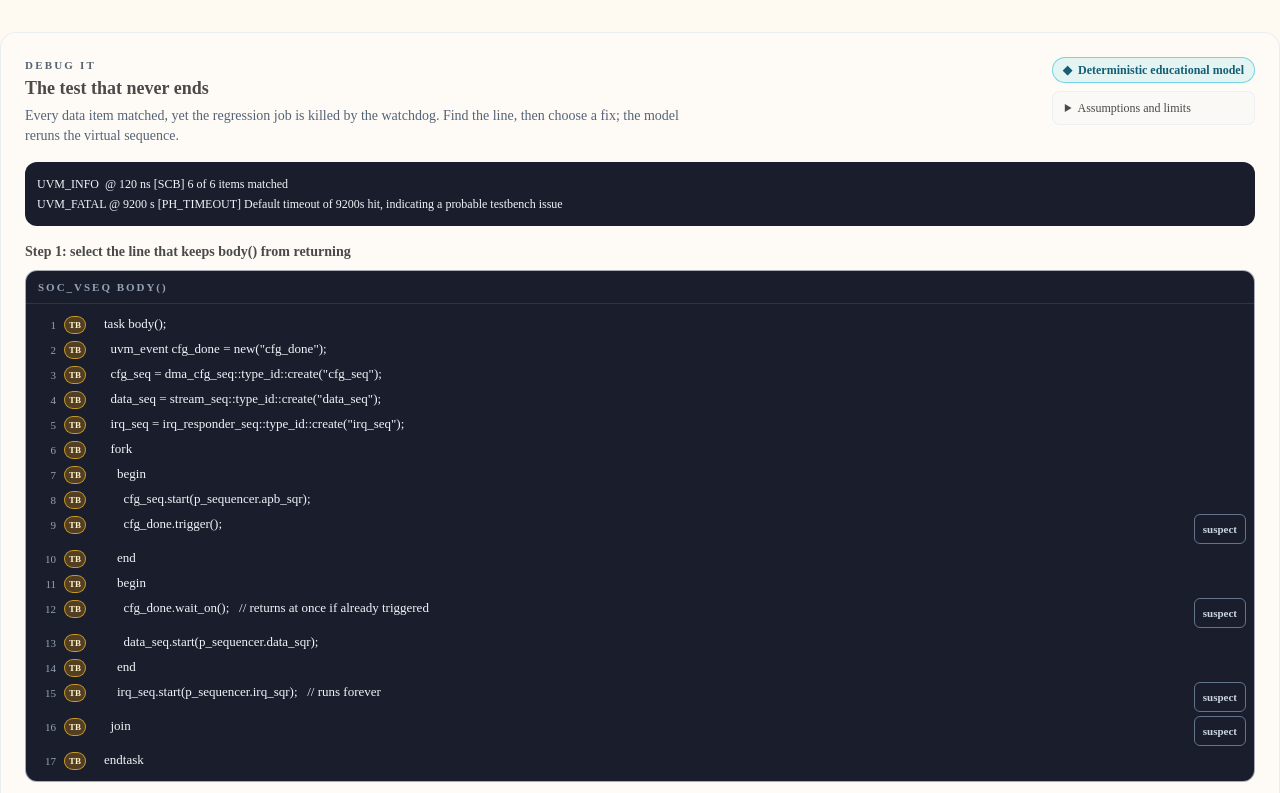
Test: MultiAgentCoordinationVisualizer › debug mode: the join is the culprit; join_any is rejected and the isolated background fork is accepted
Expected: the text named "Failing log" shows "PH_TIMEOUT", [37,176,563,210]
Click the button with aria-label "Suspect line: irq_seq.start": x=1220, y=697 [1194,682,1246,712]
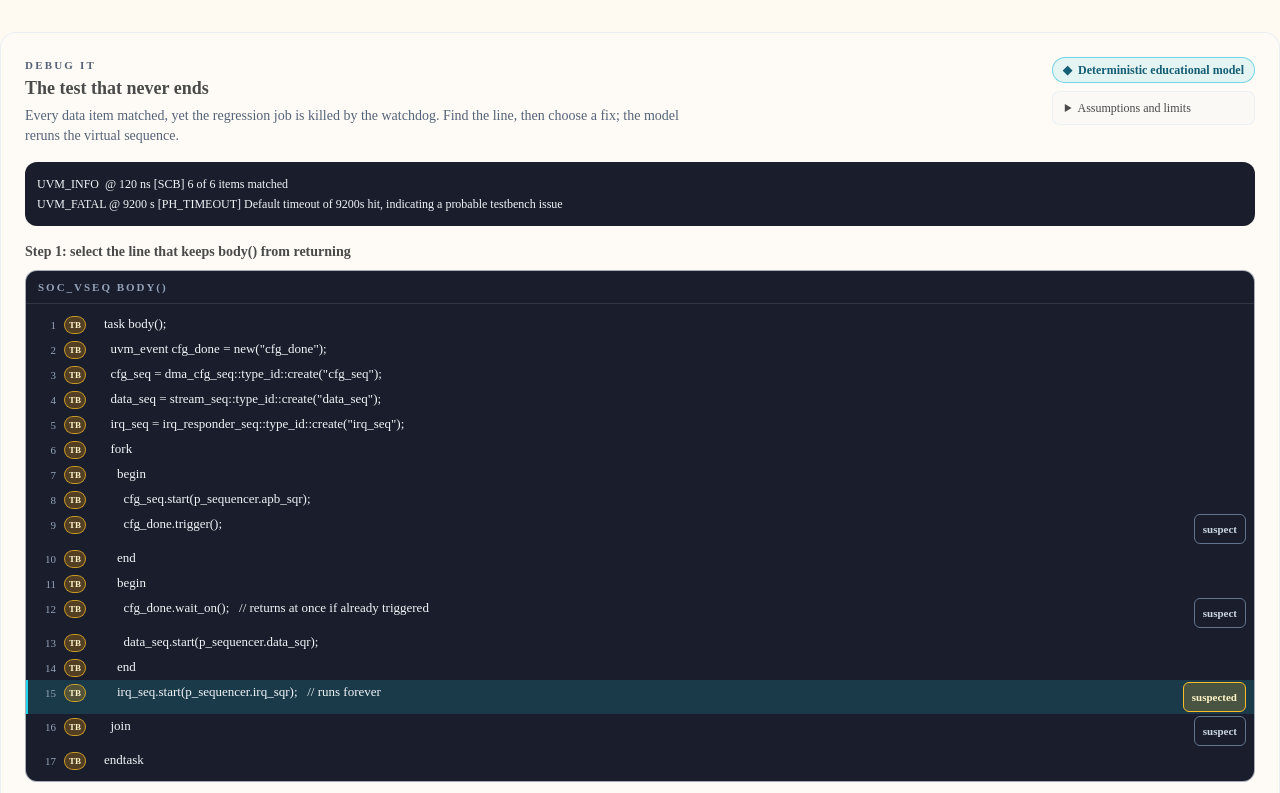
Click the button with aria-label "Suspect line: join": x=1220, y=731 [1194,716,1246,746]
(page scrolled)
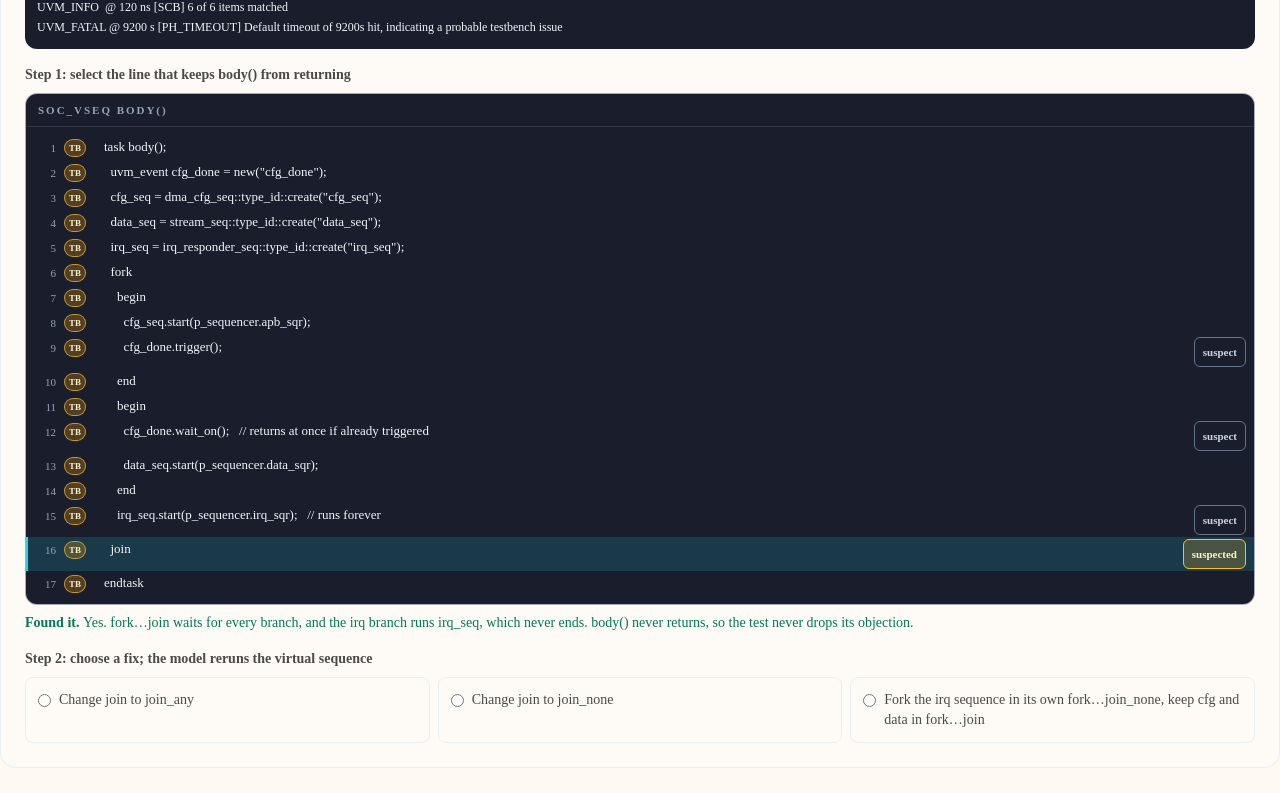
Result: the text "Found it." is shown at [25,615,83,630]
Click the radio button labelled "Change join to join_any": x=44, y=700 [38,694,51,707]
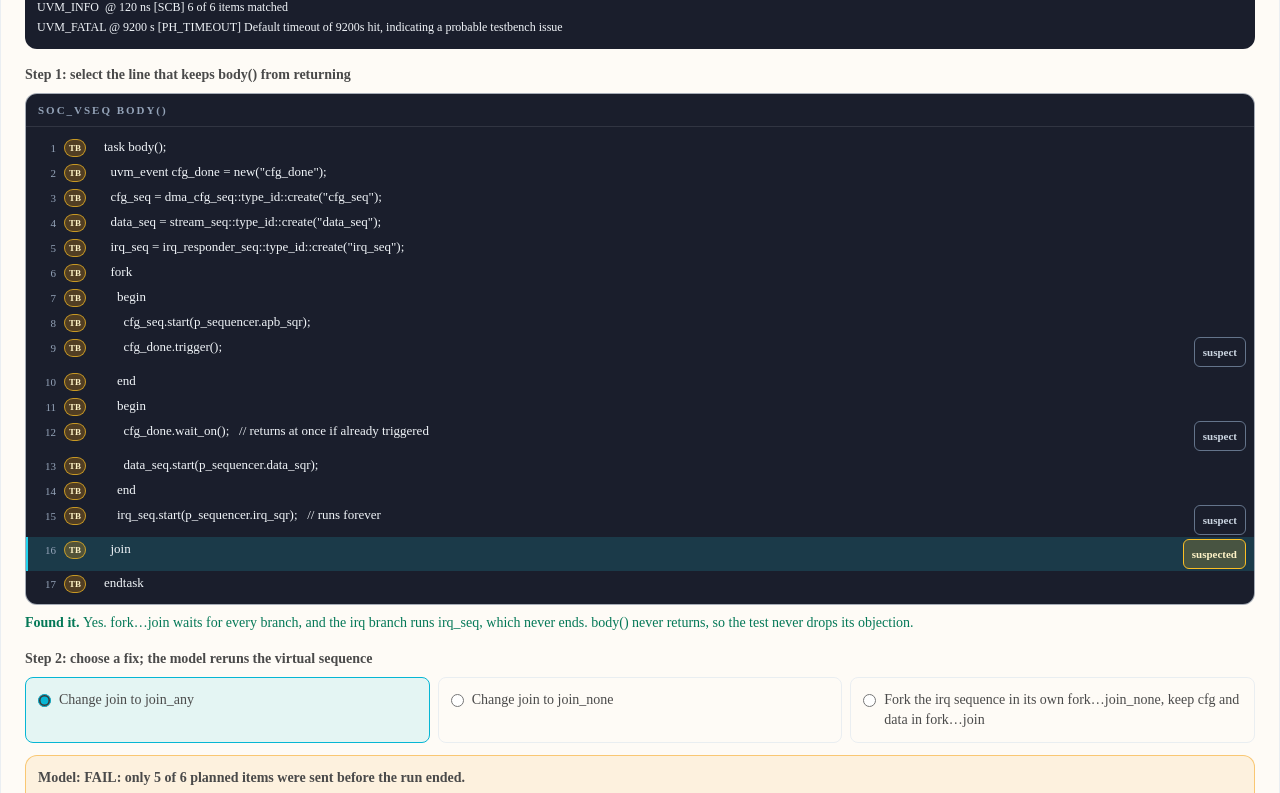
Result: the text "only 5 of 6 planned items were sent" is shown at [84,770,465,785]
Click the radio button labelled "Fork the irq sequence in its own": x=870, y=700 [863,694,876,707]
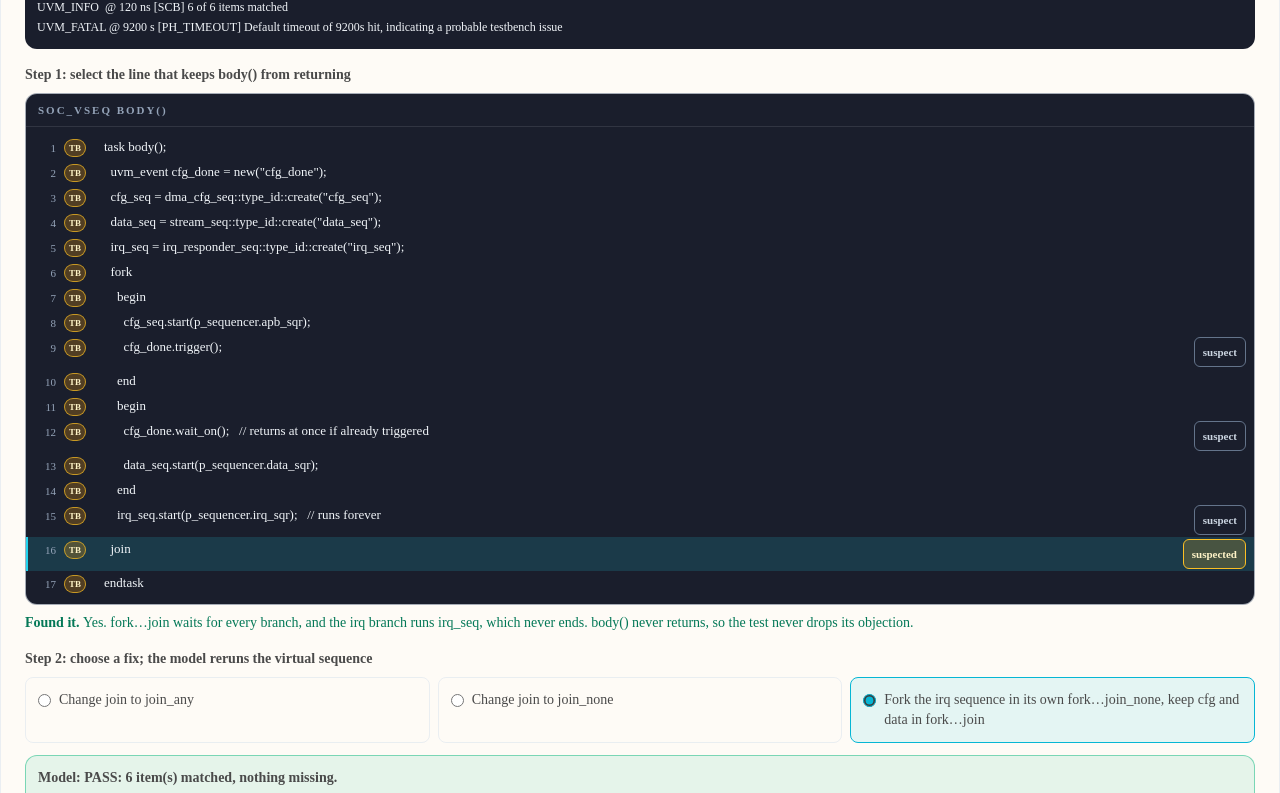
Result: the text "Model: PASS: 6 item(s) matched, nothing missing." is shown at [38,770,337,785]
